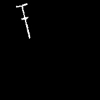double_crochet: (16, 4, 29, 37)
